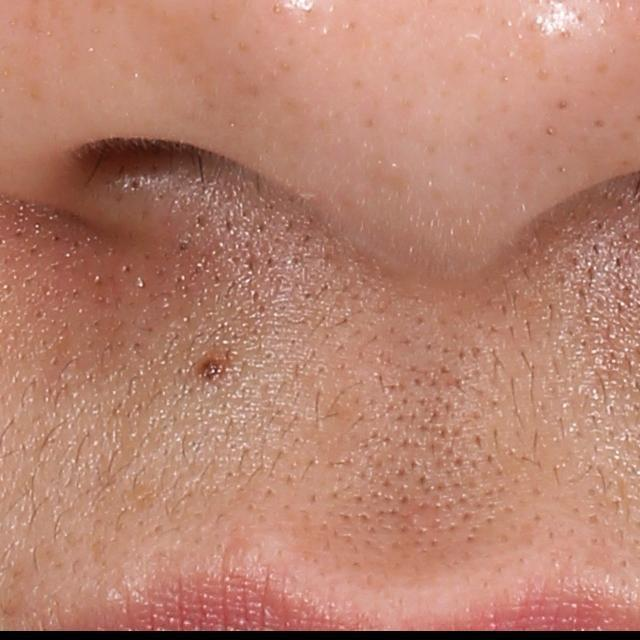nevus: (194, 354, 229, 386)
